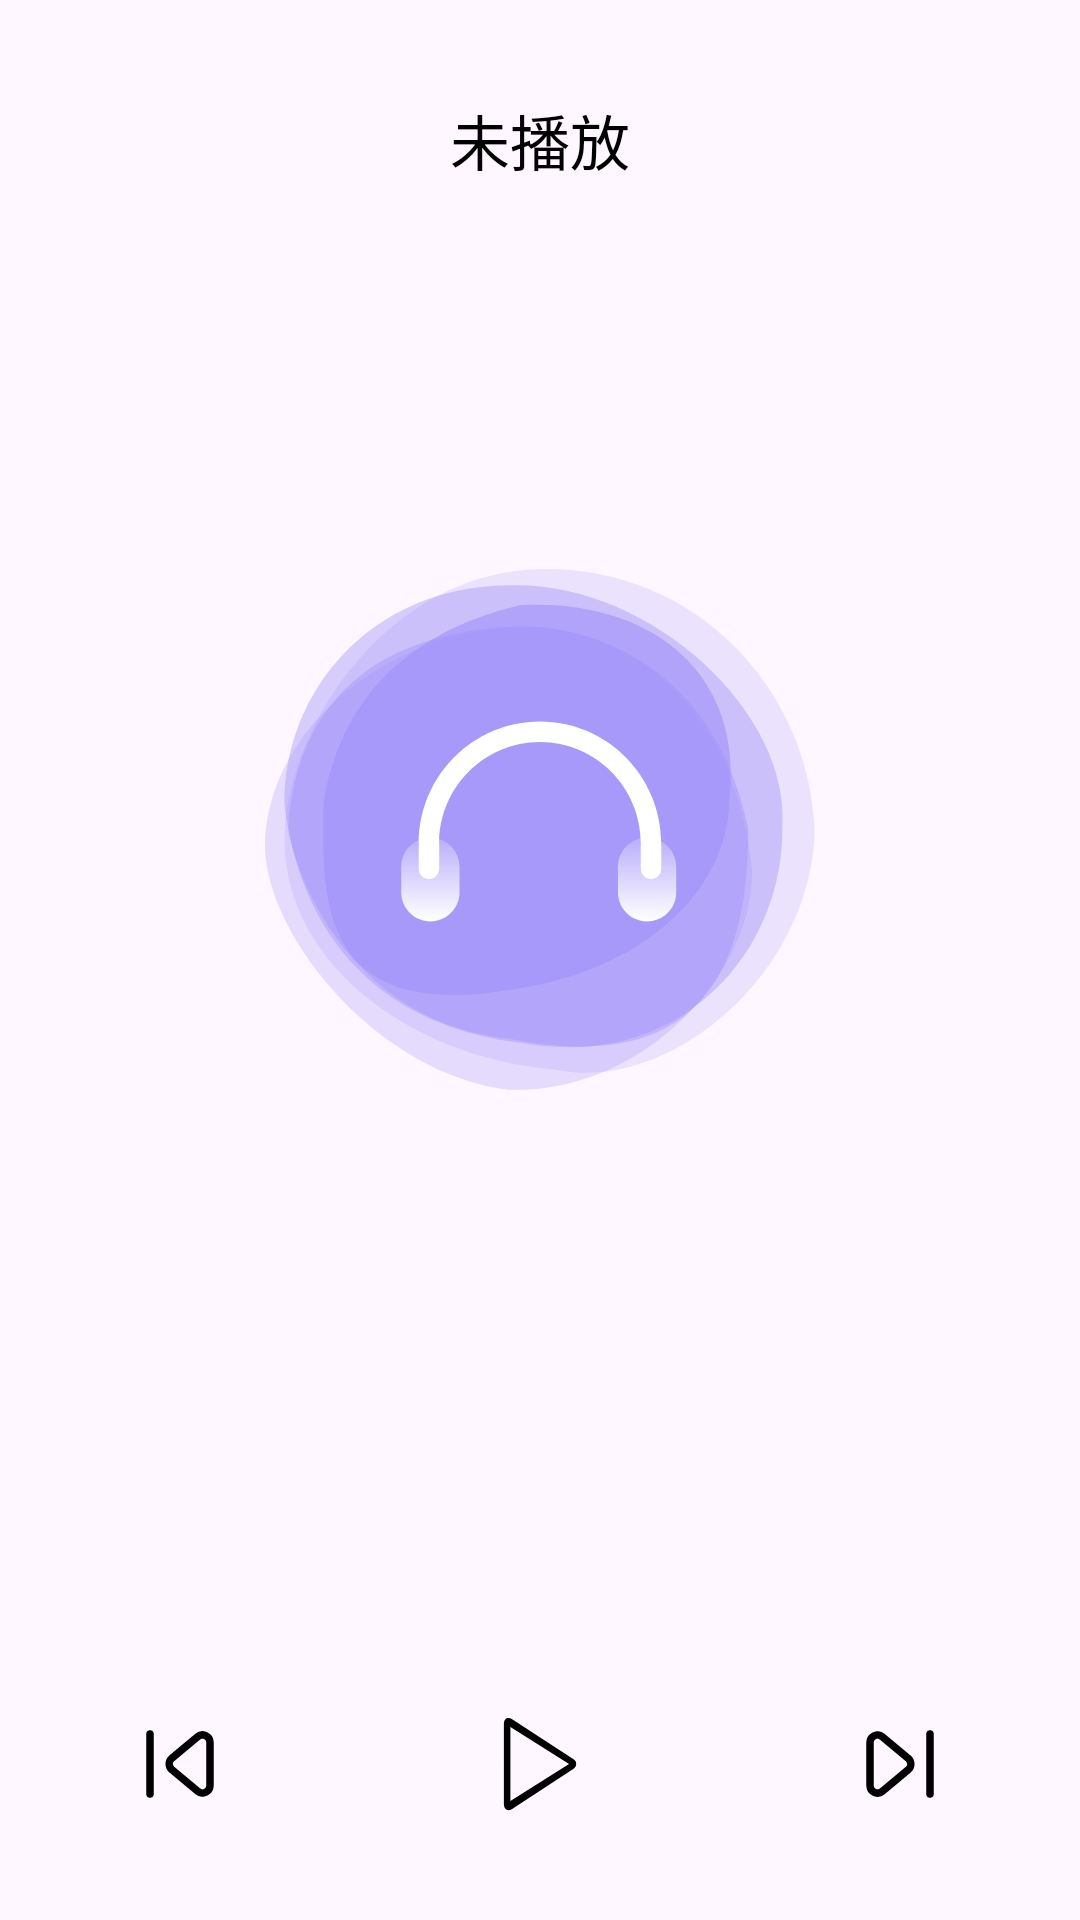

Screen size 1080px×1920px. Icon name, then its center in pixels as (x,y):
next: (900,1764)
play: (540,1764)
